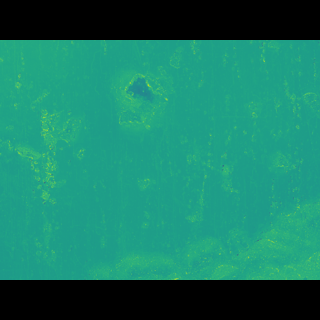Loch: (85, 186, 319, 252), (8, 120, 89, 240), (104, 91, 171, 138)
